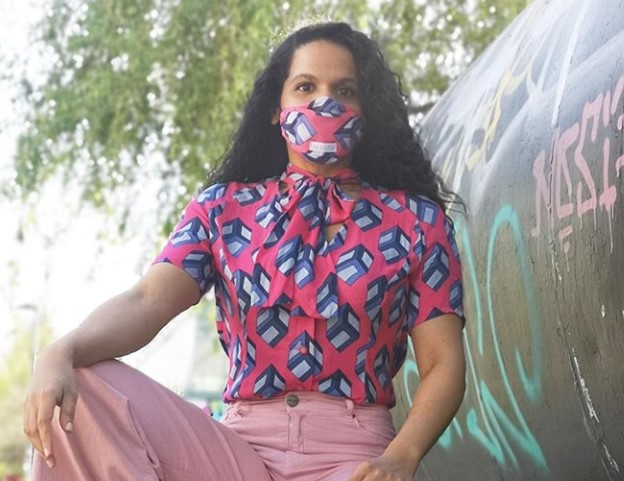face_with_mask: (268, 27, 373, 168)
